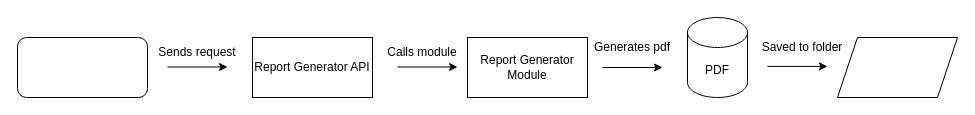
Image size: 975x115. Some labels were removed from this diagram. Each missing label, with the centre of its shape:
"/server/reports" belongs at point (897, 67).
"User" belongs at point (82, 67).
